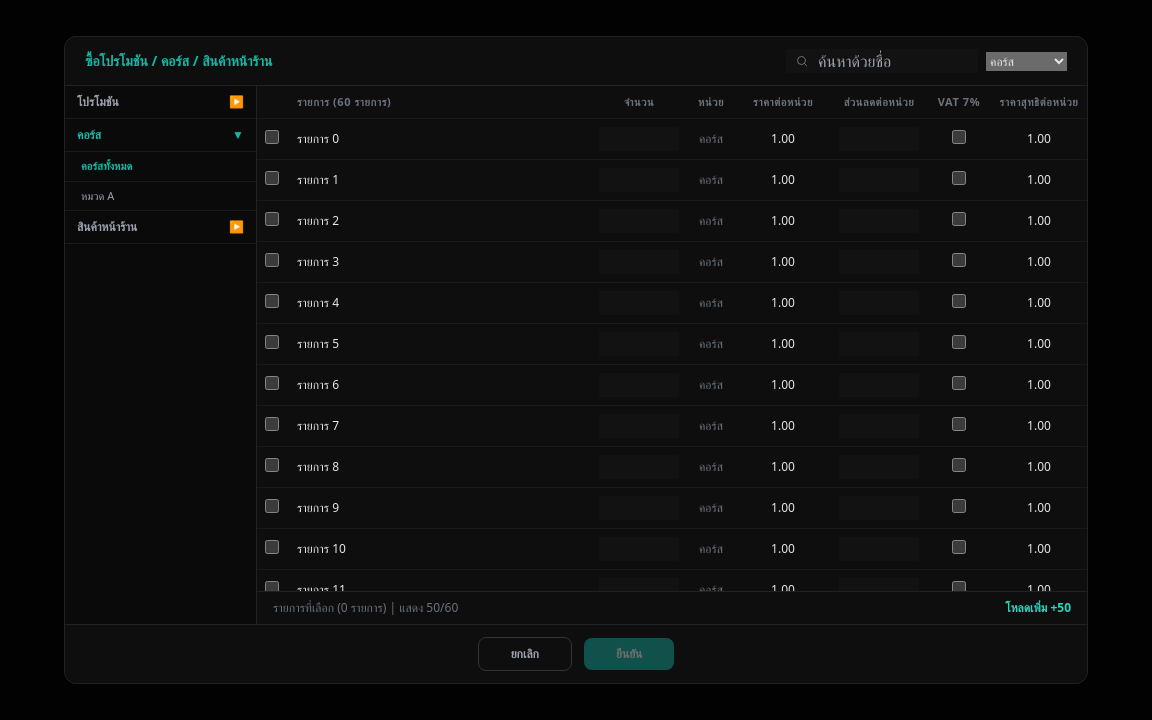
it: BM1 — TfpBuyModal RTL execution (real render, real handlers) › BM1.7 load-more appears only when buyShowLimit < filtered length + bumps by 50
Expected: the text "รายการที่เลือก (0 รายการ) | แสดง 50/60" is shown, x1=273 y1=600 x2=458 y2=616
What coordinates should you click on to do the following:
click the button "โหลดเพิ่ม +50"
I would click on:
 (1038, 608)
Its box is x1=1005 y1=600 x2=1071 y2=616.
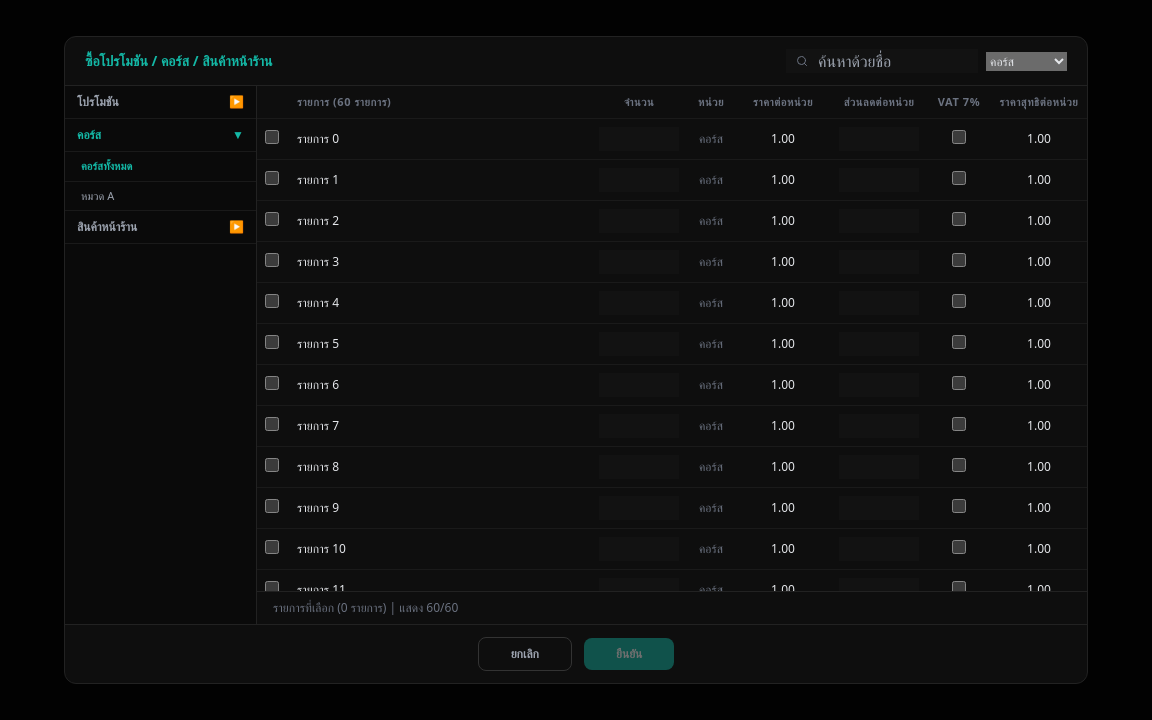
Expected: the text "รายการที่เลือก (0 รายการ) | แสดง 60/60" is shown, x1=273 y1=600 x2=458 y2=616
